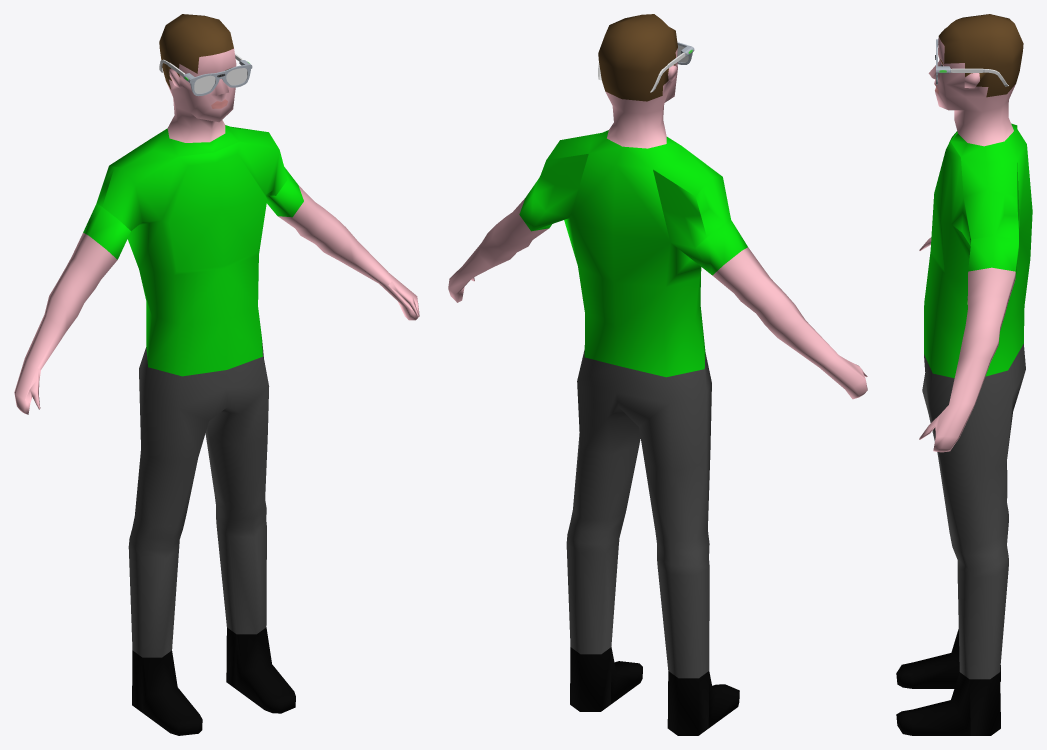
File: NPC3af.fbx
3 renders of one model, left to right at view 1: azimuth 30°, elevation 25°; view 2: azimuth 150°, elevation 25°; view 3: azimuth 270°, elevation 25°, orthographic. The views are drawn at different scales.
Parts seen in each view (by area): view 1: Body, Circle.003; view 2: Body; view 3: Body, Circle.003.
Part boxes in pixels (x1,y1,x2,y2): Body: (14, 14, 419, 735); Circle.003: (159, 53, 252, 96); Body: (448, 14, 867, 735); Body: (896, 14, 1032, 735); Circle.003: (935, 39, 1008, 86).
Bounding box in the file's own units: 114 × 182 × 32.73.
